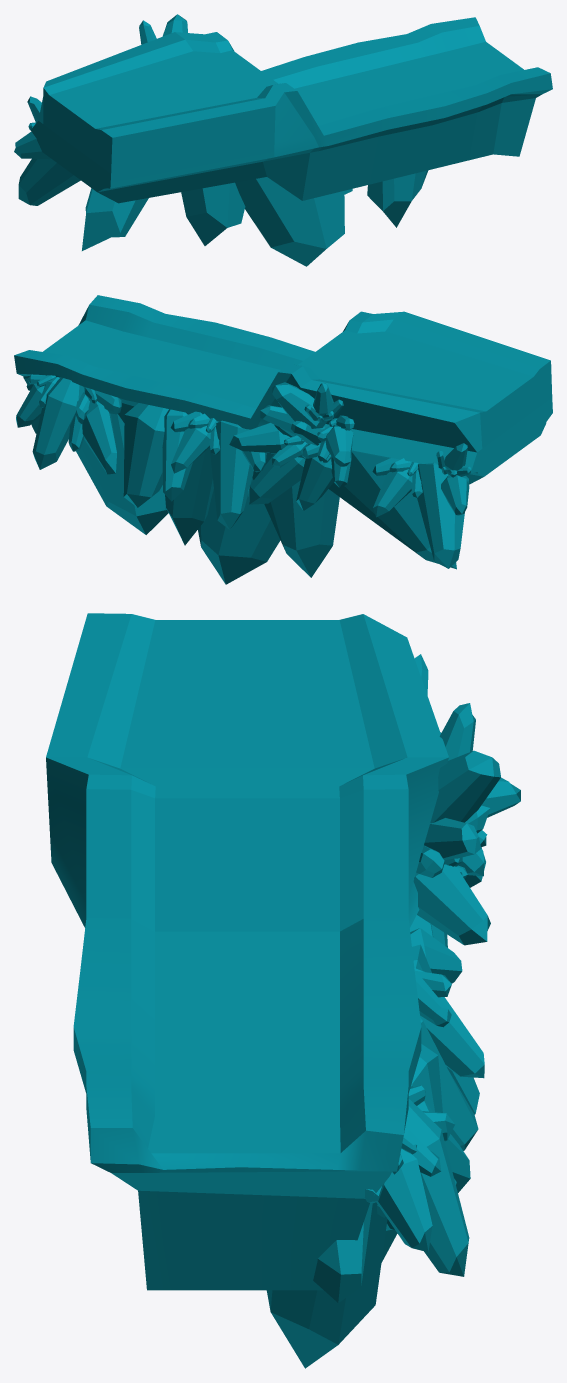
The model's file is Floating_Step_up_long.fbx.
3 renders of one model, top to bottom at view 1: azimuth 30°, elevation 25°; view 2: azimuth 150°, elevation 25°; view 3: azimuth 270°, elevation 25°, orthographic. The views are drawn at different scales.
Parts seen in each view (by area): view 1: pCube239; view 2: pCube239; view 3: pCube239.
Part boxes in pixels (x1=…): pCube239: x1=14, y1=14, x2=552, y2=266; pCube239: x1=14, y1=295, x2=552, y2=584; pCube239: x1=46, y1=613, x2=520, y2=1368.
Size of the model in its own units: 4.57 by 2.45 by 2.09.
